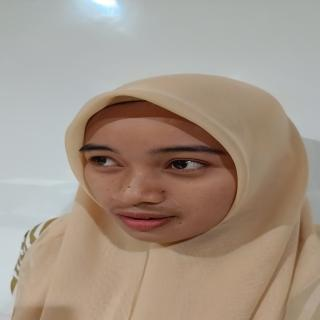Takut: (77, 97, 260, 253)
